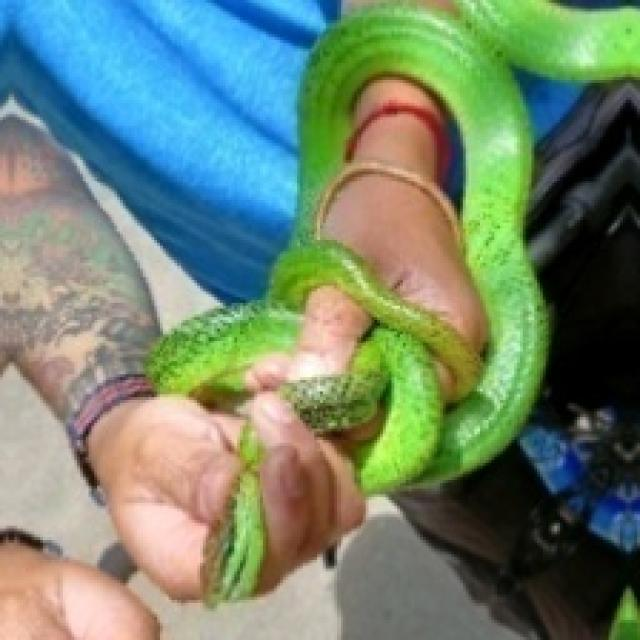red-tailed green ratsnake: (148, 0, 639, 493), (211, 429, 266, 601)
